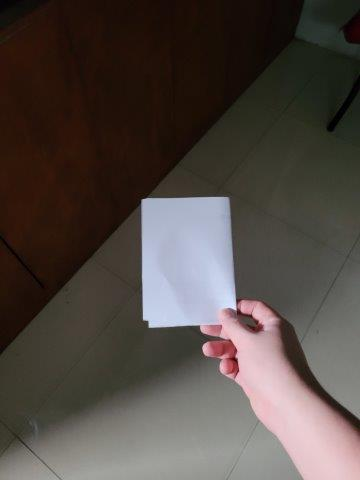kertas: (140, 196, 239, 328)
